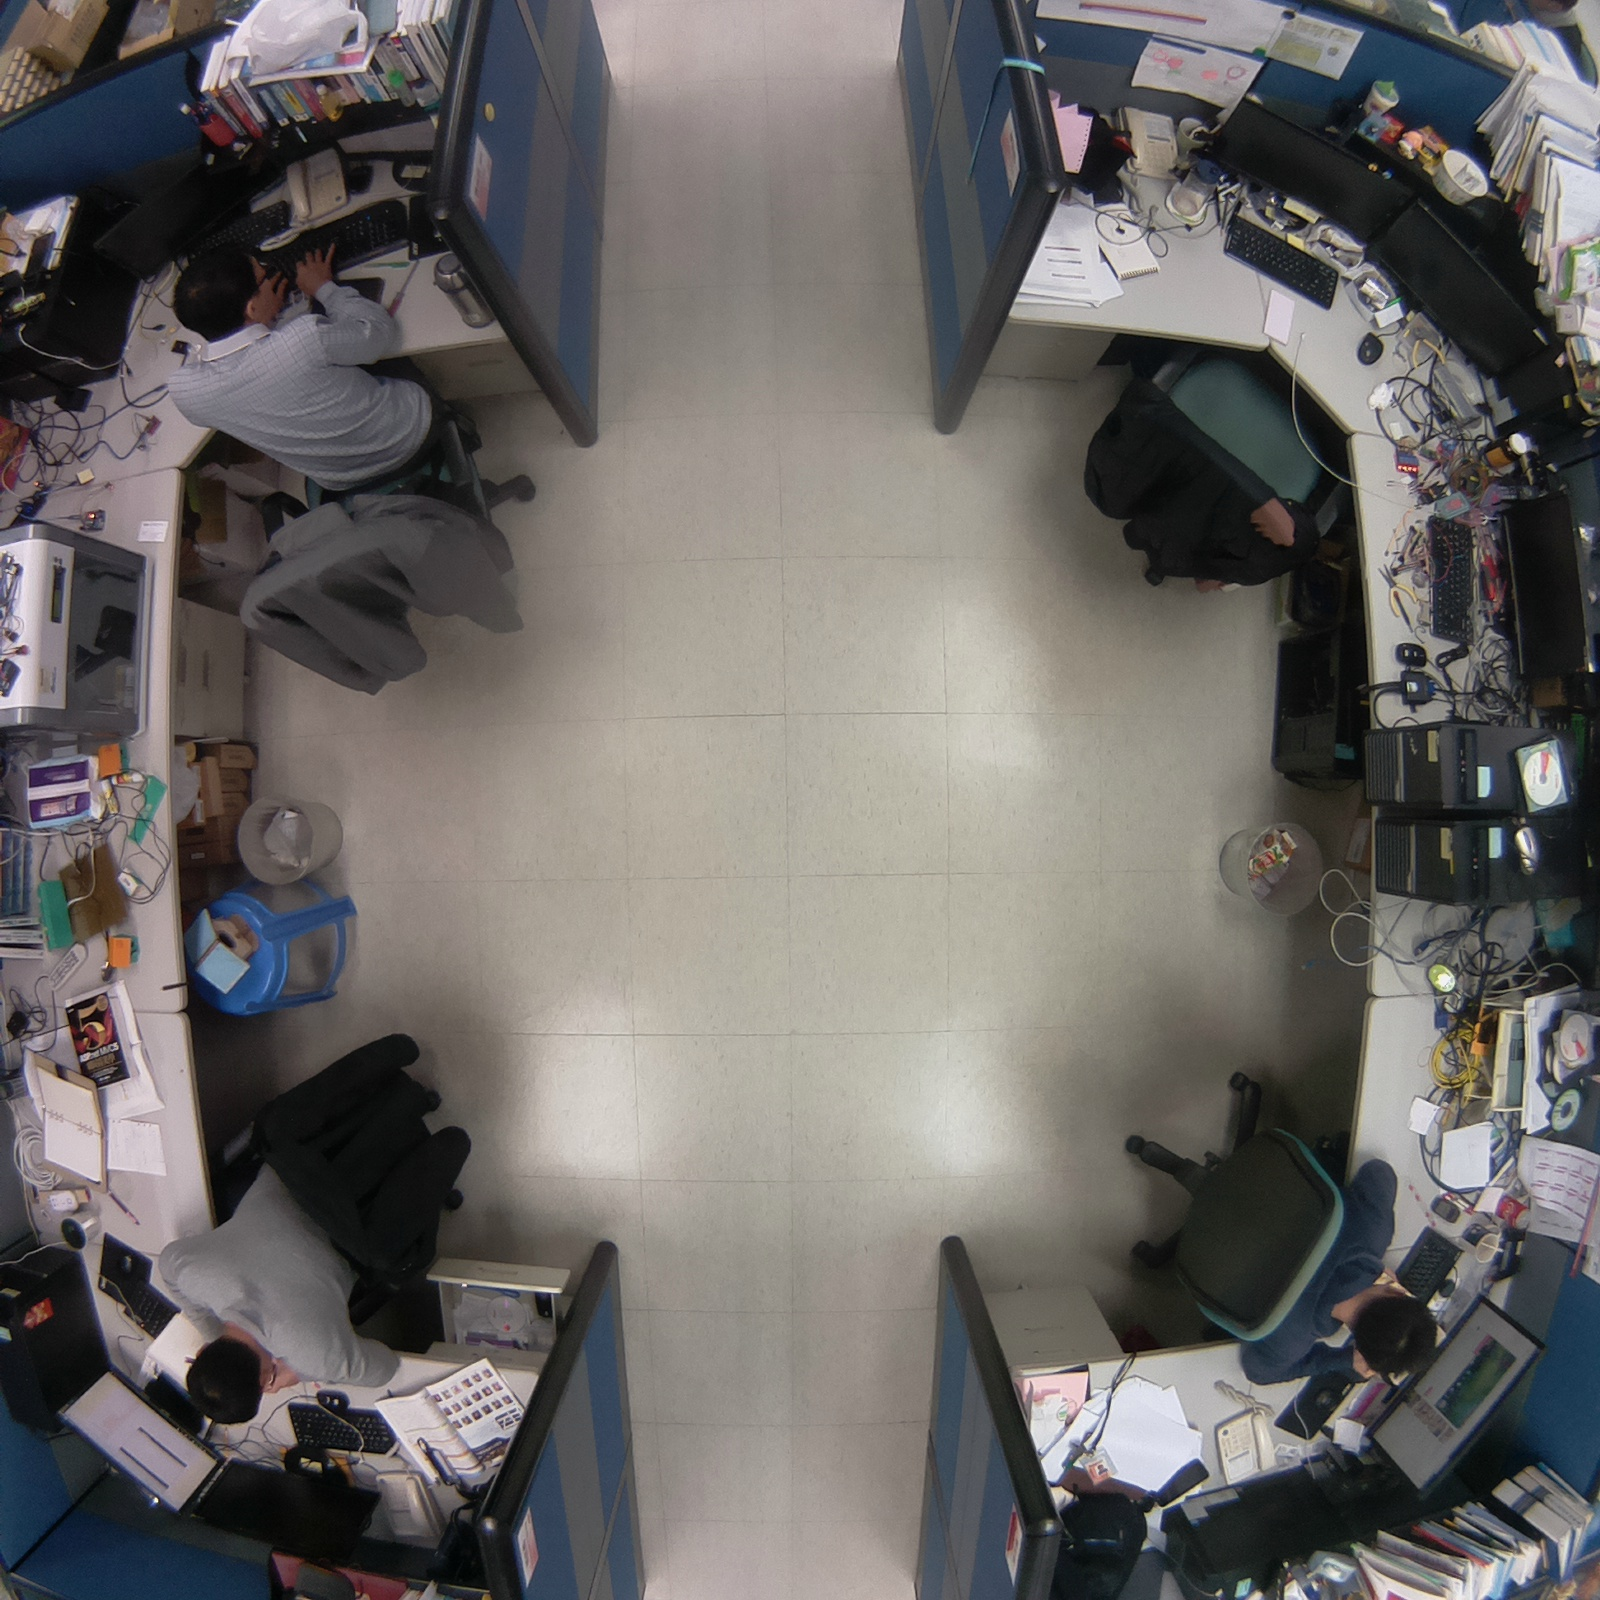chair: (1073, 319, 1353, 601)
head: (166, 236, 293, 344), (1346, 1287, 1446, 1385), (185, 1321, 270, 1434)
sitting: (159, 234, 553, 701), (147, 1004, 499, 1432), (1101, 1052, 1451, 1397)
